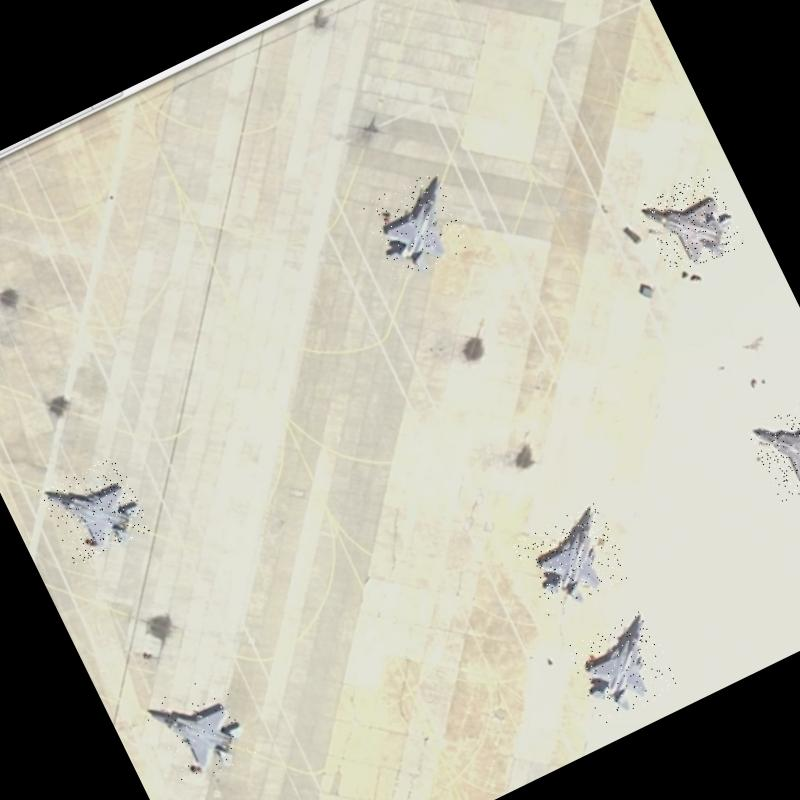A13: (141, 668, 258, 791), (511, 500, 632, 616), (564, 608, 681, 726), (358, 167, 476, 283), (38, 452, 152, 566)
A15: (635, 167, 746, 280), (745, 391, 800, 502)
